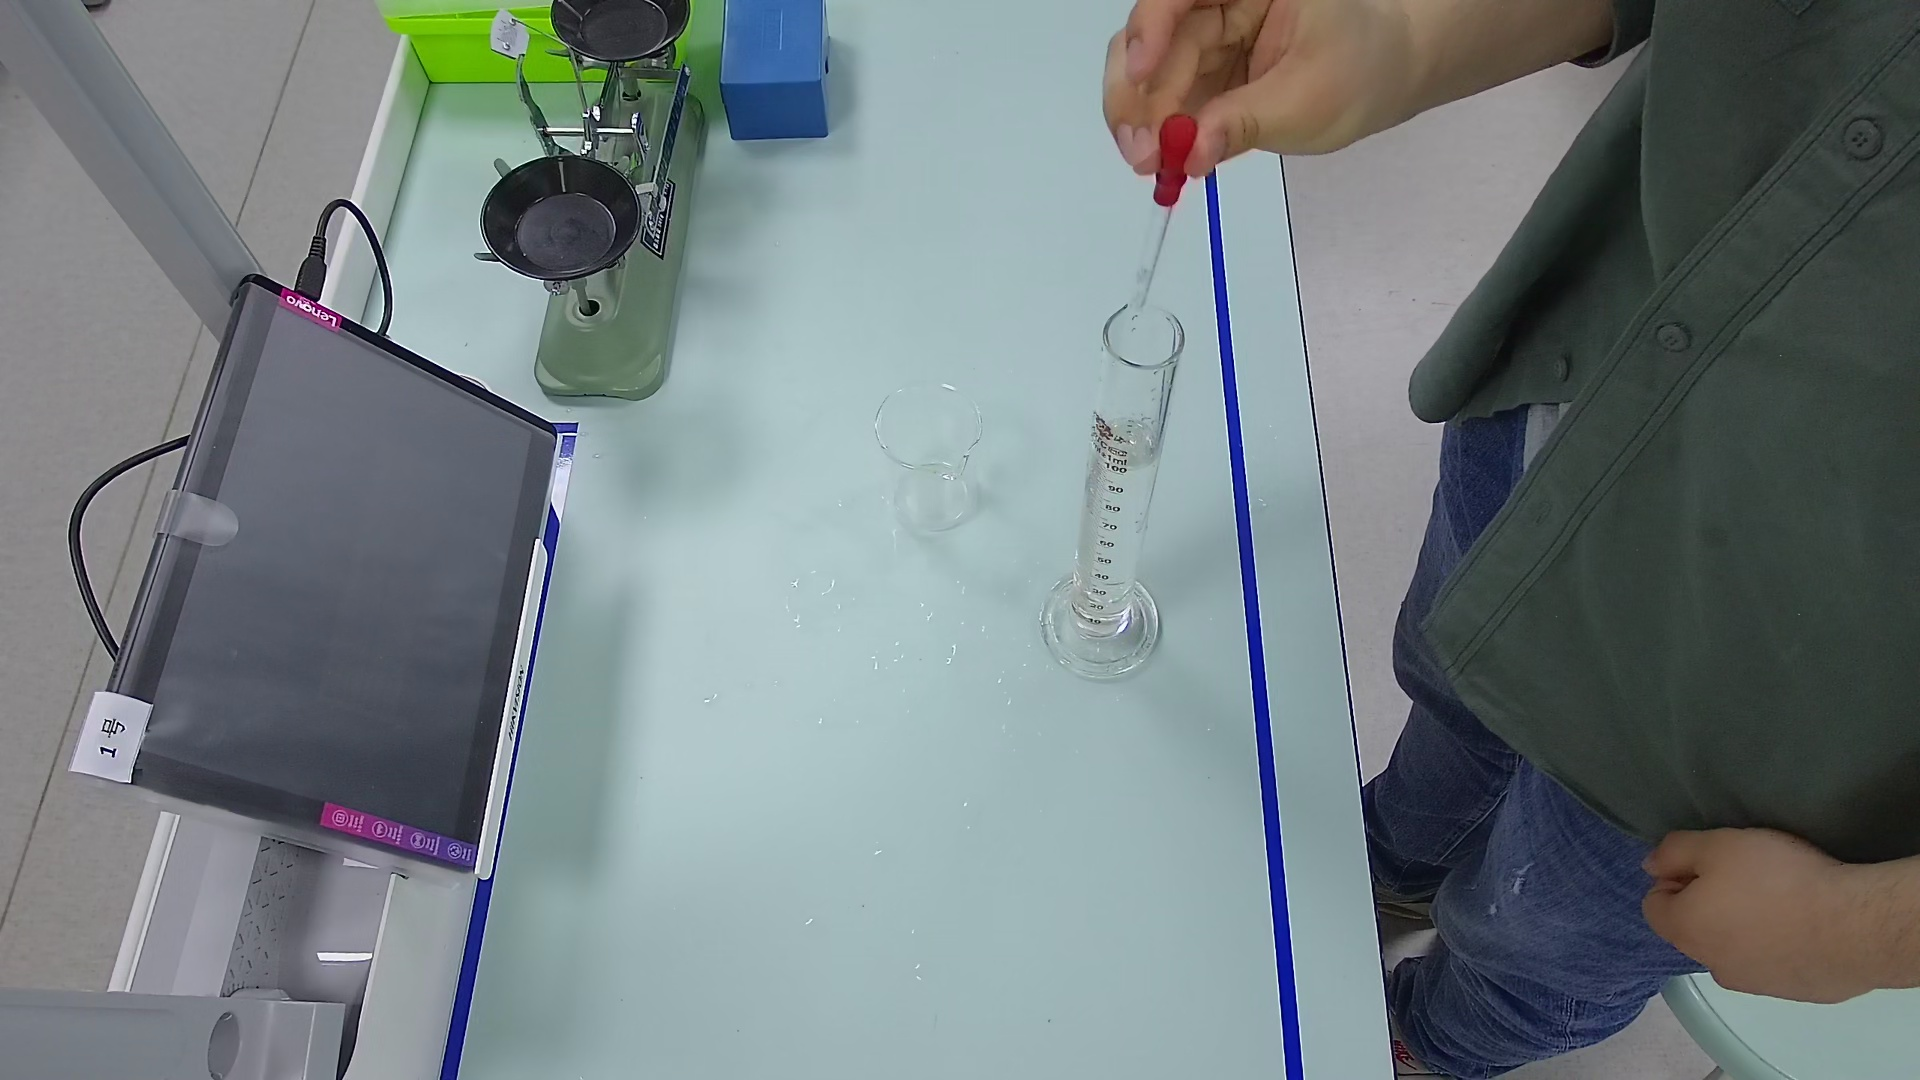ao: (1098, 418, 1162, 476)
bei: (864, 375, 994, 533)
diguan: (1124, 111, 1195, 319)
diguantou: (1143, 123, 1204, 202)
hand: (1081, 1, 1366, 185), (1644, 824, 1818, 1011)
liangdi: (1036, 574, 1158, 686)
liangtong: (1043, 295, 1183, 680)
tuo: (471, 146, 641, 284), (553, 1, 704, 73)
